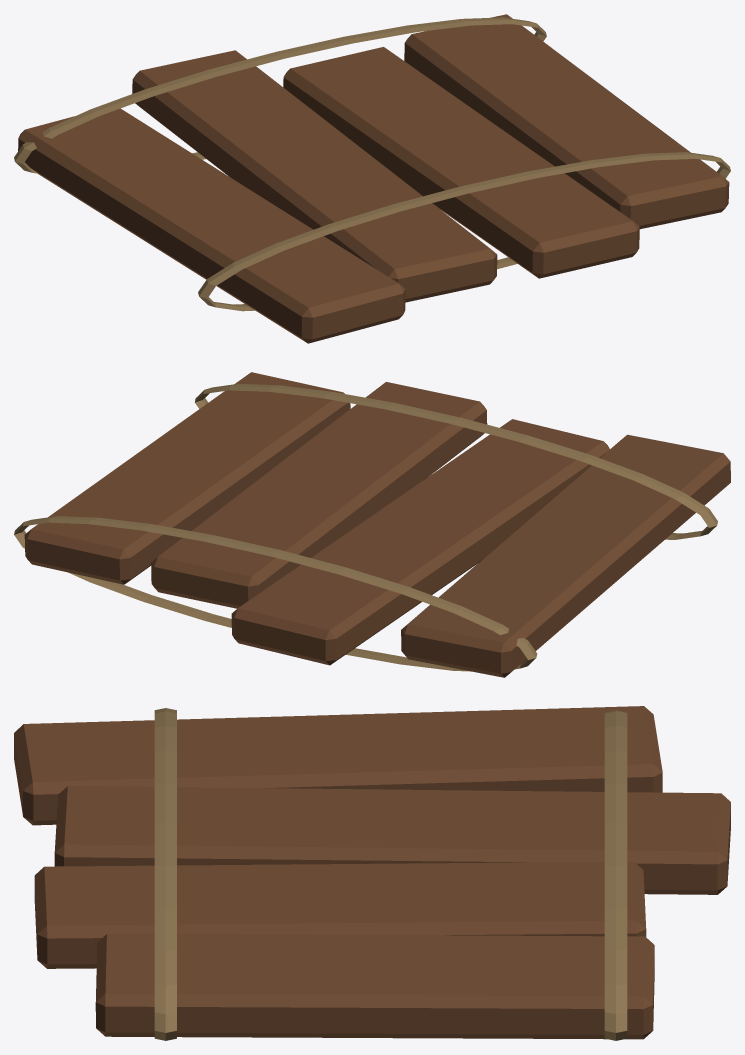
The model's file is plank_swamp.glb.
3 views of the same model, one above another, from view 1: azimuth 30°, elevation 25°; view 2: azimuth 150°, elevation 25°; view 3: azimuth 270°, elevation 25° (orthographic). The views are drawn at different scales.
Visible parts, largest first — view 1: PlankSwamp; view 2: PlankSwamp; view 3: PlankSwamp.
Boxes of the visible parts, x1,y1,x2,y2 form: PlankSwamp: (14, 14, 730, 343); PlankSwamp: (14, 372, 730, 677); PlankSwamp: (14, 706, 730, 1040).
Bounding box in the file's own units: 0.9329 × 0.142 × 0.8917.
